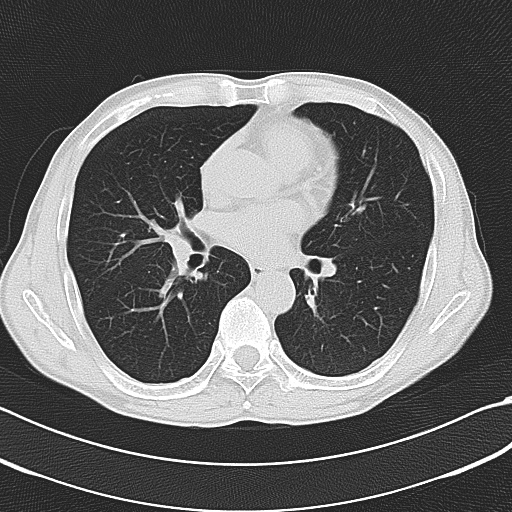Copy of non-cancer: (326, 270, 378, 326)
non-cancer: (272, 274, 324, 330)
